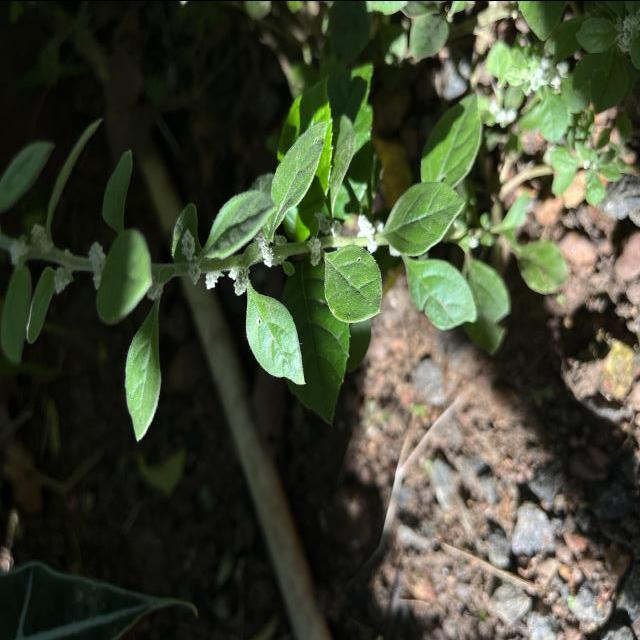Aerva lanata: (266, 111, 332, 225), (241, 284, 309, 388), (319, 239, 386, 326)
